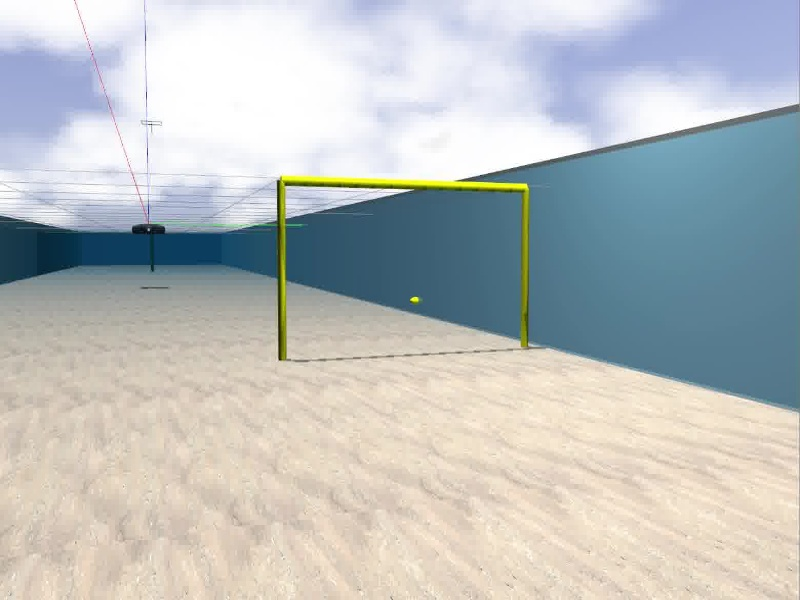gate: (276, 175, 532, 360)
